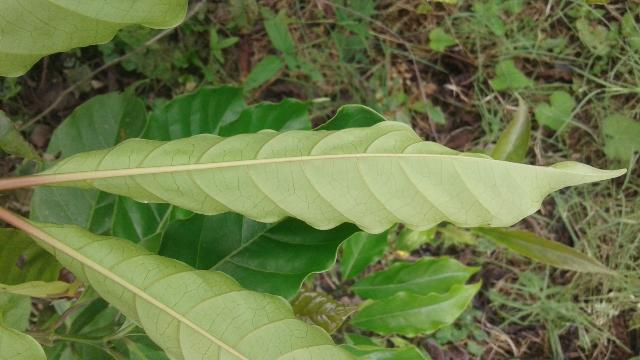healthy: (32, 118, 626, 235)
